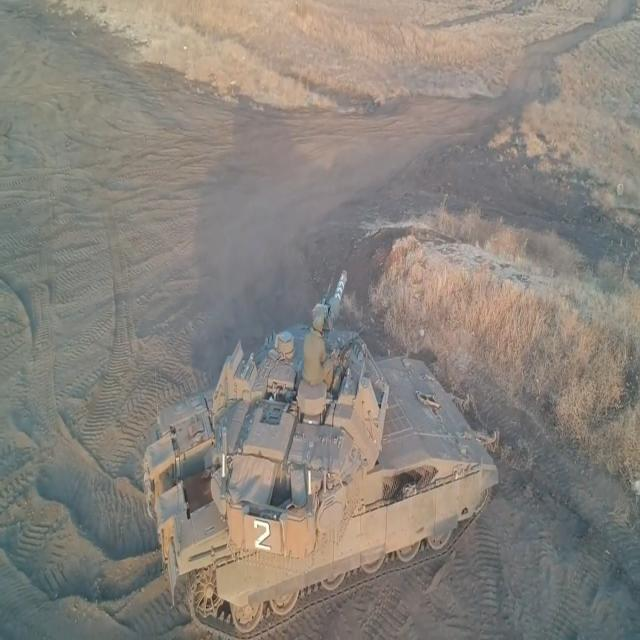tank: (126, 259, 528, 638)
